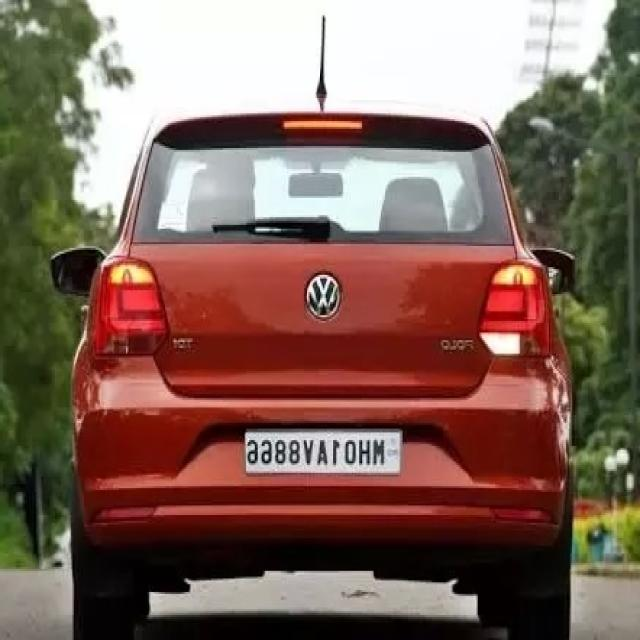number-plate: (240, 422, 394, 482)
